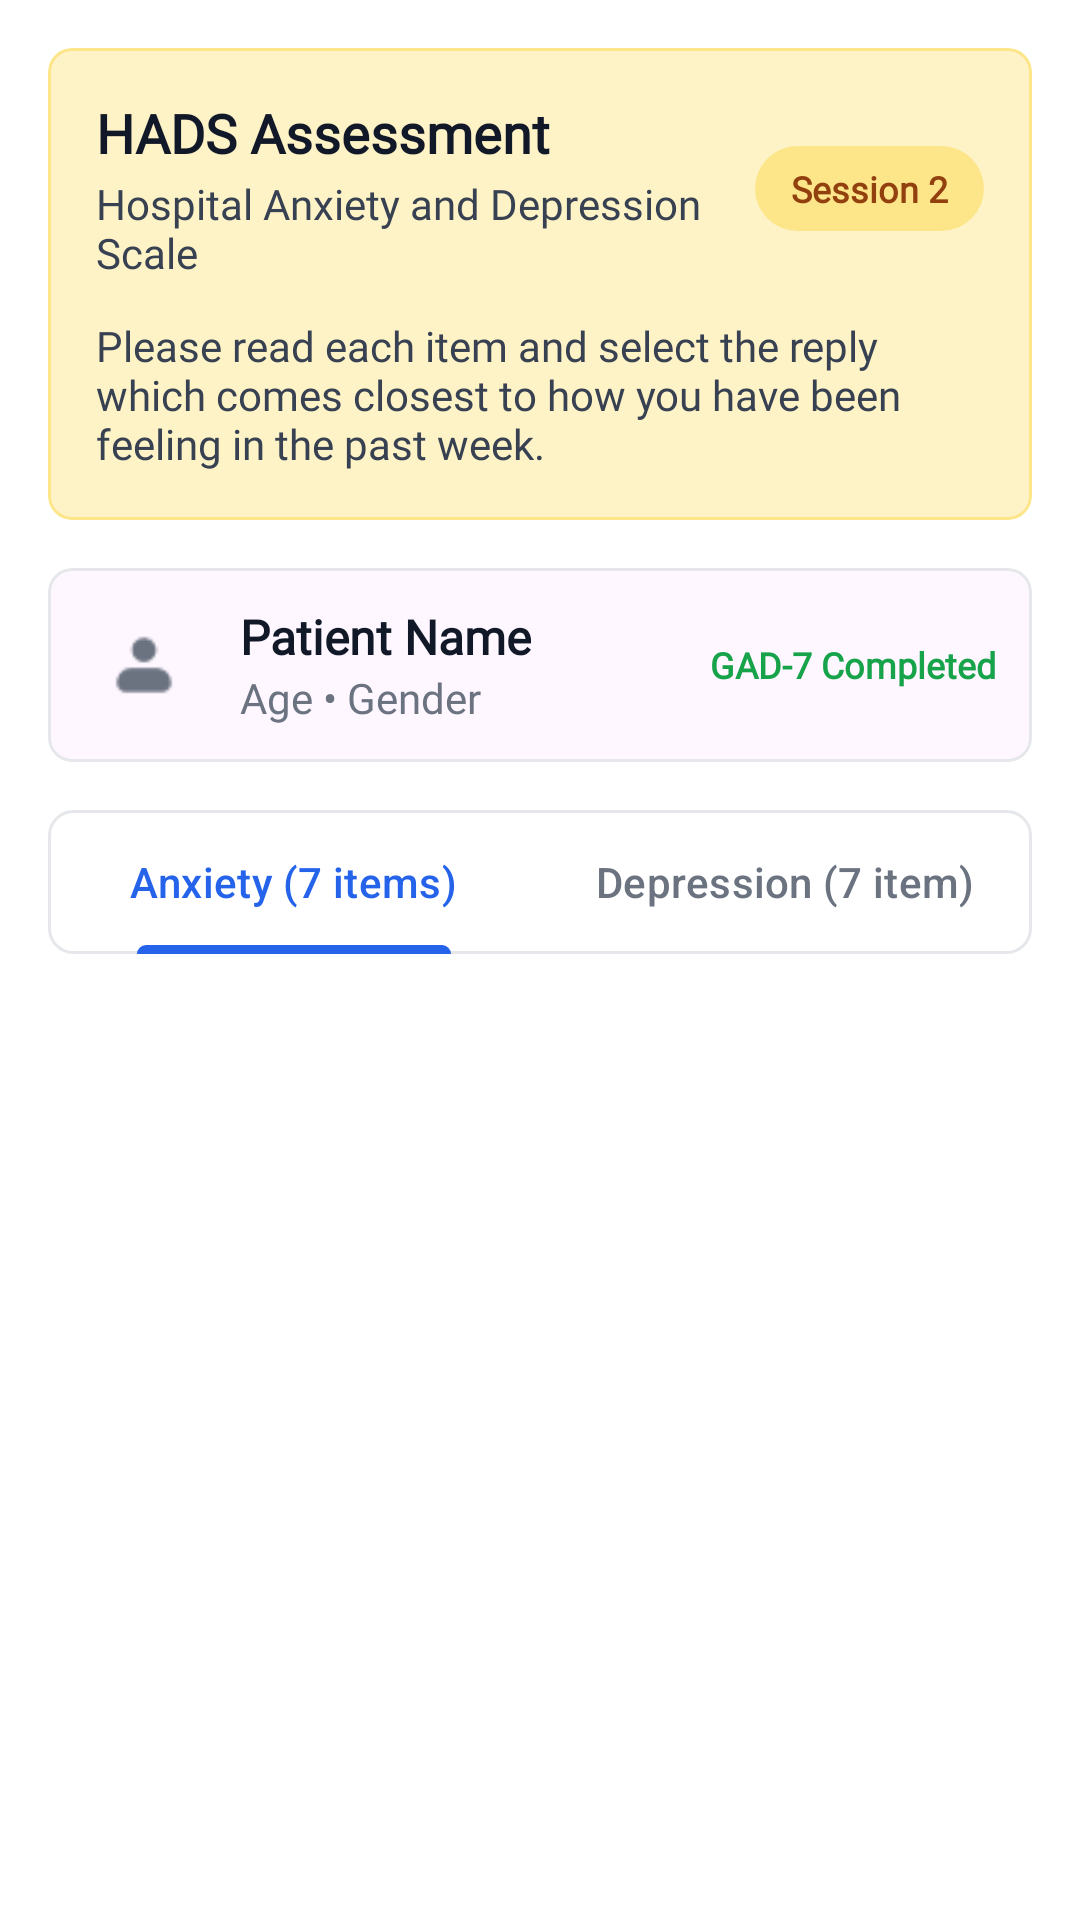

Named icons in this screenshot (1080×1920) and their bounding boxes, (x1, y1, x2, y2):
profile: (116, 637, 172, 693)
